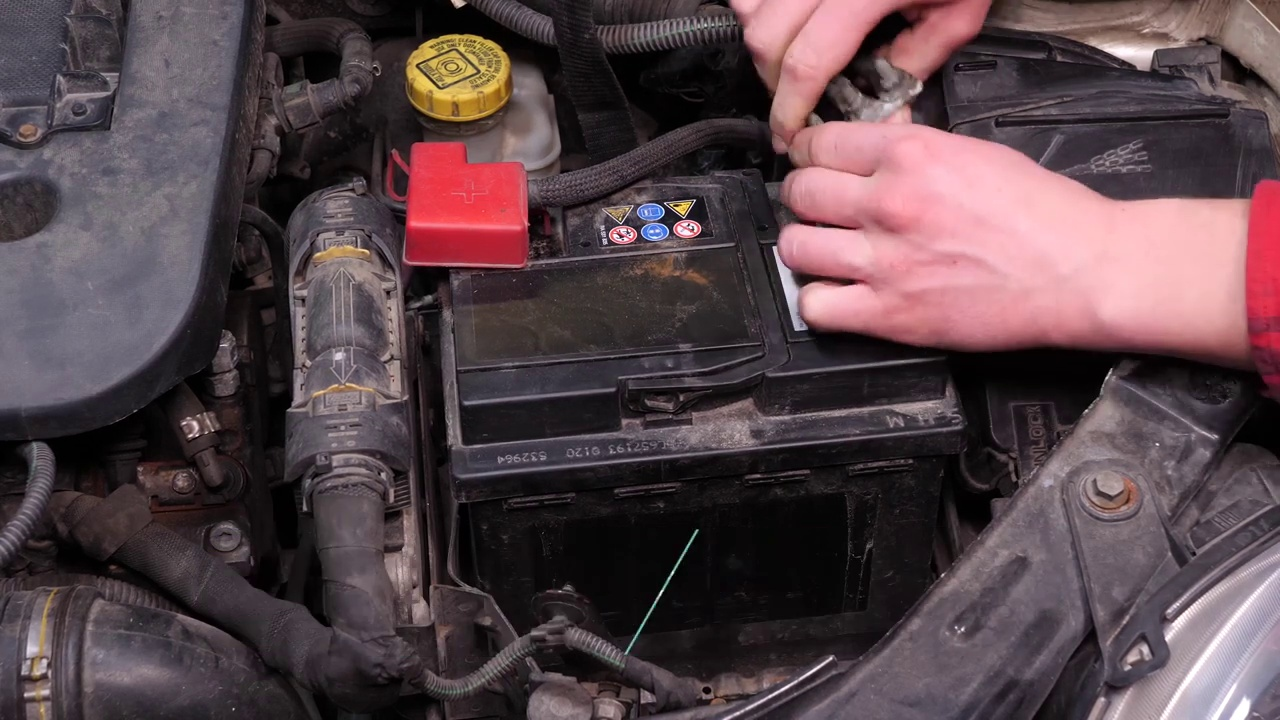battery: (397, 138, 952, 414)
neg_touched: (775, 11, 932, 205)
pos_connected: (386, 140, 540, 269)
